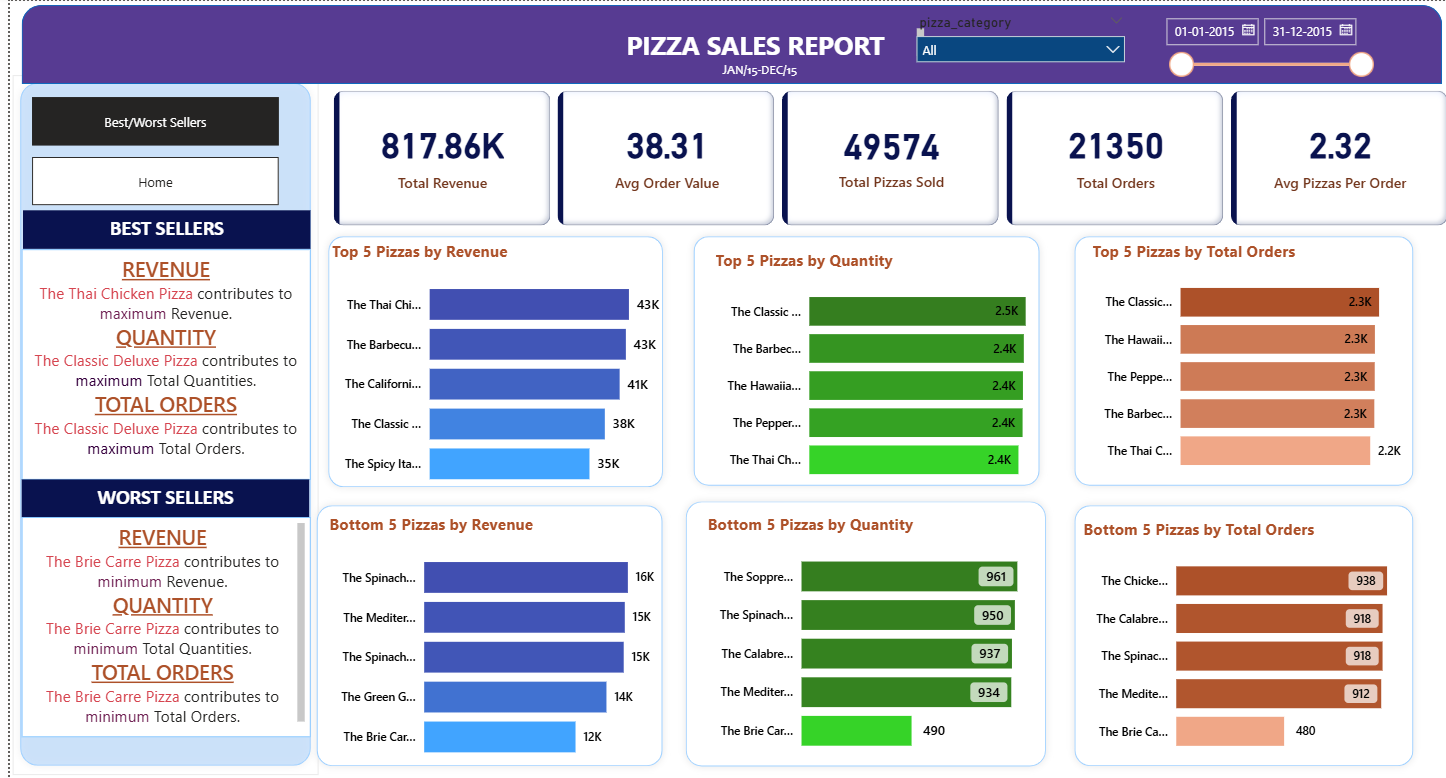

What the dashboard file says about the page in this screenshot:
{"tool":"powerbi","page":{"name":"Best/Worst Sellers","canvas":[1500,820],"ordinal":1},"visuals":[{"type":"shape","title":"Monthly Trend for Total Orders","box":[2.5,77.5,317.5,725],"z":0},{"type":"textbox","box":[13.2,217.7,298.5,39.7],"z":1000},{"type":"cardVisual","fields":{"Data":["pizza_sales (1).Total Revenue","pizza_sales (1).Avg Order Value","pizza_sales (1).Total Pizzas Sold","pizza_sales (1).Total Orders","pizza_sales (1).Avg Pizzas Per Order"]},"box":[331.2,87.5,1168.8,150],"z":2000},{"type":"shape","box":[11.9,4.5,1474.6,82.1],"z":3000},{"type":"textbox","box":[600,22.4,353.7,41.8],"z":4000},{"type":"textbox","box":[717.9,55.2,120.9,44.8],"z":5000},{"type":"shape","title":"Monthly Trend for Total Orders","box":[322.1,236.8,363.2,276.5],"z":6000},{"type":"textbox","box":[12.1,257.6,300,239.4],"z":7000},{"type":"textbox","box":[12.1,497,298.5,39.4],"z":8000},{"type":"textbox","box":[12.5,536.2,300,228.8],"z":9000},{"type":"slicer","fields":{"Values":["pizza_sales (1).pizza_category"]},"box":[931.8,7.6,236.4,75.8],"z":10000},{"type":"slicer","fields":{"Values":["pizza_sales (1).order_date"]},"box":[1187.9,7.6,236.4,75.8],"z":11000},{"type":"shape","title":"Monthly Trend for Total Orders","box":[701.5,236.8,375,275],"z":12000},{"type":"shape","title":"Monthly Trend for Total Orders","box":[1097.1,236.8,367.7,275],"z":13000},{"type":"shape","title":"Monthly Trend for Total Orders","box":[694.1,511.8,389.7,291.2],"z":14000},{"type":"shape","title":"Monthly Trend for Total Orders","box":[310.3,516.2,375,286.8],"z":15000},{"type":"shape","title":"Monthly Trend for Total Orders","box":[1097.1,516.2,367.7,286.8],"z":16000},{"type":"barChart","title":"Top 5 Pizzas by Revenue","fields":{"Category":["pizza_sales (1).pizza_name"],"Y":["pizza_sales (1).Total Revenue"]},"box":[329.4,248.5,372.1,288.2],"z":17000},{"type":"barChart","title":"Bottom 5 Pizzas by Revenue","fields":{"Category":["pizza_sales (1).pizza_name"],"Y":["pizza_sales (1).Total Revenue"]},"box":[326.5,532.4,358.8,270.6],"z":18000},{"type":"barChart","title":"Top 5 Pizzas by Quantity","fields":{"Category":["pizza_sales (1).pizza_name"],"Y":["pizza_sales (1).Total Pizzas Sold"]},"box":[728,257.4,355.9,267.7],"z":19000},{"type":"barChart","title":"Bottom 5 Pizzas by Quantity","fields":{"Category":["pizza_sales (1).pizza_name"],"Y":["pizza_sales (1).Total Pizzas Sold"]},"box":[719.1,532.4,357.4,280.9],"z":20000},{"type":"barChart","title":"Top 5 Pizzas by Total Orders","fields":{"Category":["pizza_sales (1).pizza_name"],"Y":["pizza_sales (1).Total Orders"]},"box":[1119.2,248.5,332.4,267.7],"z":21000},{"type":"barChart","title":"Bottom 5 Pizzas by Total Orders","fields":{"Category":["pizza_sales (1).pizza_name"],"Y":["pizza_sales (1).Total Orders"]},"box":[1108.9,536.8,351.5,270.6],"z":22000},{"type":"pageNavigator","box":[22.5,100,256.2,50],"z":23000},{"type":"pageNavigator","box":[22.5,162.5,256.2,50],"z":24000}]}

Visuals, with their boxes in screenshot pixels (x1, y1, x2, y2), scaled from the page's 1500x820 canvas onto the 1446x778 screenshot:
"Monthly Trend for Total Orders" shape: bbox(2, 74, 308, 761)
textbox: bbox(13, 207, 300, 244)
cardVisual - pizza_sales (1).Total Revenue x pizza_sales (1).Avg Order Value: bbox(319, 83, 1445, 225)
shape: bbox(11, 4, 1433, 82)
textbox: bbox(578, 21, 919, 61)
textbox: bbox(692, 52, 809, 95)
"Monthly Trend for Total Orders" shape: bbox(311, 225, 661, 487)
textbox: bbox(12, 244, 301, 472)
textbox: bbox(12, 472, 299, 509)
textbox: bbox(12, 509, 301, 726)
slicer - pizza_sales (1).pizza_category: bbox(898, 7, 1126, 79)
slicer - pizza_sales (1).order_date: bbox(1145, 7, 1373, 79)
"Monthly Trend for Total Orders" shape: bbox(676, 225, 1038, 486)
"Monthly Trend for Total Orders" shape: bbox(1058, 225, 1412, 486)
"Monthly Trend for Total Orders" shape: bbox(669, 486, 1045, 762)
"Monthly Trend for Total Orders" shape: bbox(299, 490, 661, 762)
"Monthly Trend for Total Orders" shape: bbox(1058, 490, 1412, 762)
"Top 5 Pizzas by Revenue" barChart: bbox(318, 236, 676, 509)
"Bottom 5 Pizzas by Revenue" barChart: bbox(315, 505, 661, 762)
"Top 5 Pizzas by Quantity" barChart: bbox(702, 244, 1045, 498)
"Bottom 5 Pizzas by Quantity" barChart: bbox(693, 505, 1038, 772)
"Top 5 Pizzas by Total Orders" barChart: bbox(1079, 236, 1399, 490)
"Bottom 5 Pizzas by Total Orders" barChart: bbox(1069, 509, 1408, 766)
pageNavigator: bbox(22, 95, 269, 142)
pageNavigator: bbox(22, 154, 269, 202)
